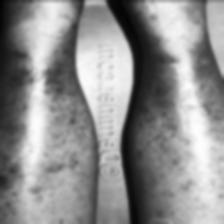Non-Cancerous Skin Condition: (0, 36, 87, 201), (154, 41, 224, 196)
